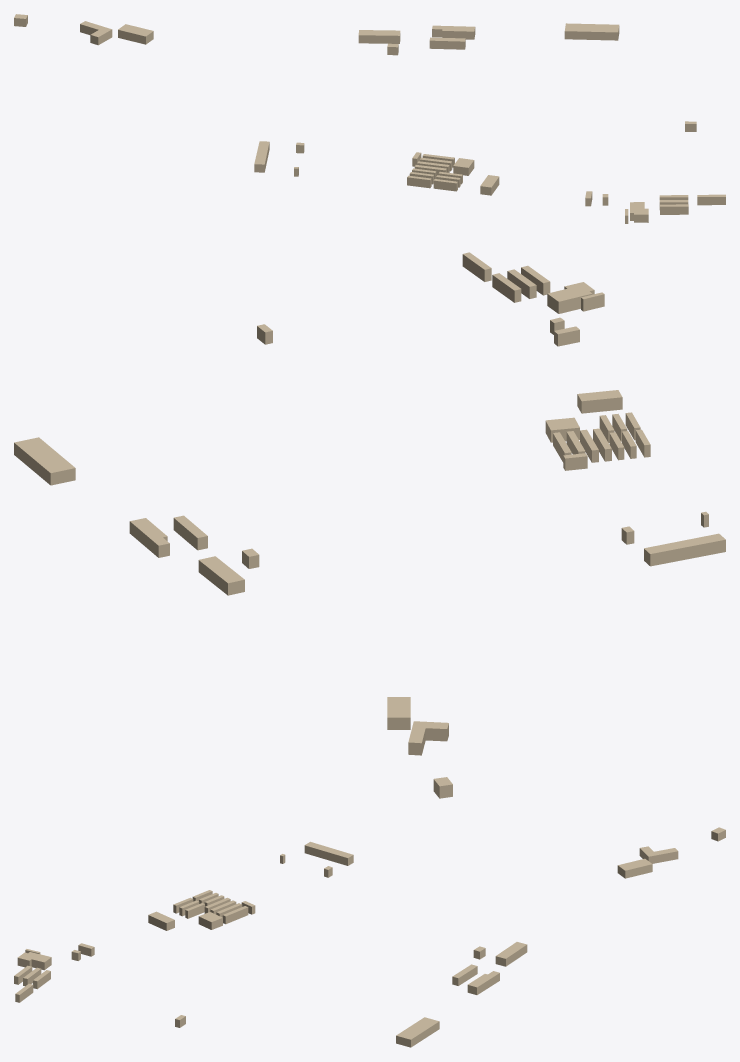
File: -19_-3-estimated-coarse.glb
3 renders of one model, top to bottom at view 1: azimuth 30°, elevation 25°; view 2: azimuth 150°, elevation 25°; view 3: azimuth 270°, elevation 25°, orthographic. The views are drawn at different scales.
Bounding box in the file's own units: 693 × 12 × 981.
